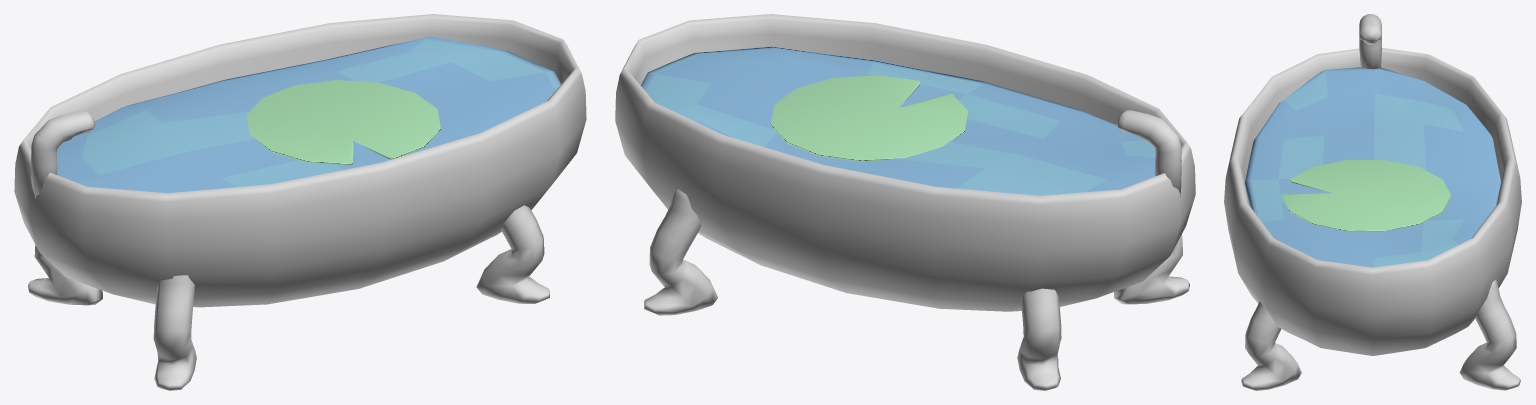
File: BathTub.fbx
The picture shows the model from 3 angles, left to right: view 1: azimuth 30°, elevation 25°; view 2: azimuth 150°, elevation 25°; view 3: azimuth 270°, elevation 25°; orthographic projection. The views are drawn at different scales.
Parts seen in each view (by area): view 1: Cube.006; view 2: Cube.006; view 3: Cube.006.
Boxes of the visible parts, x1,y1,x2,y2 form: Cube.006: [14, 14, 586, 390]; Cube.006: [615, 14, 1195, 390]; Cube.006: [1224, 14, 1521, 390].
Size of the model in its own units: 342 by 143 by 189.
